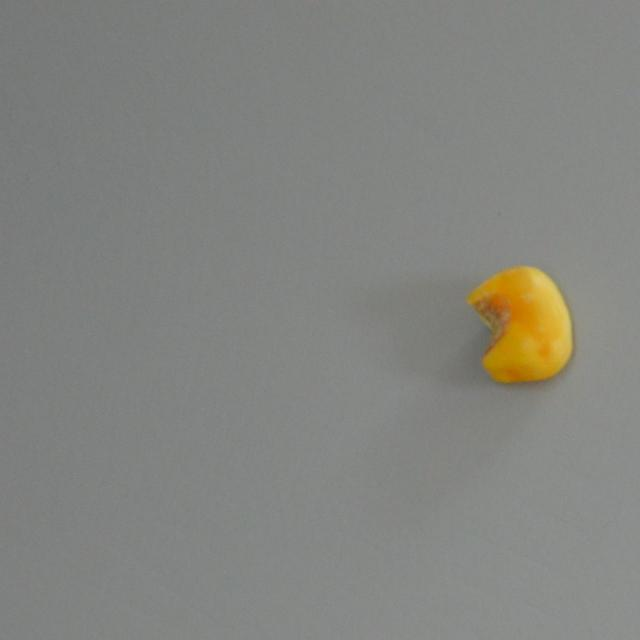dañado: (464, 262, 577, 386)
